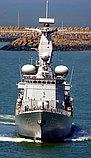MIL_Ship: (12, 14, 74, 142)
